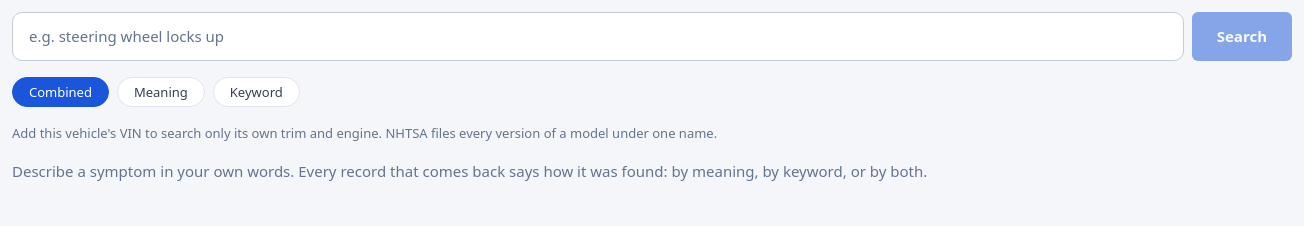
Test: SearchPage › falls back to keyword mode and shows the reason when embeddings are unavailable
Type "steering locks" into the field named "Search phrase".
click(598, 37); type("steering locks")  # box x1=12 y1=12 x2=1184 y2=61
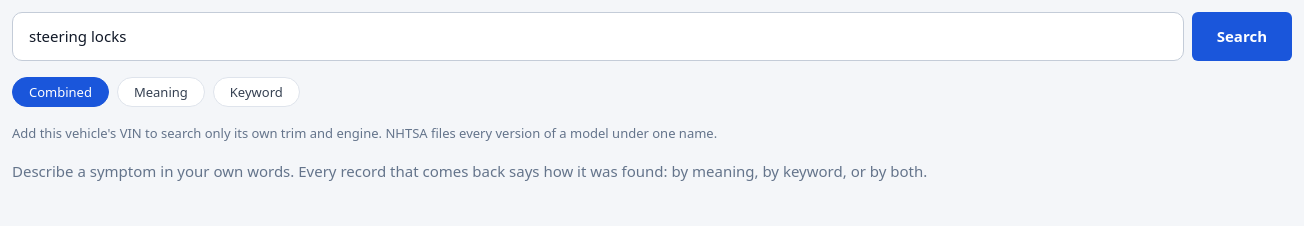
Submit the form with test id "search-box", box x1=12 y1=12 x2=1292 y2=61
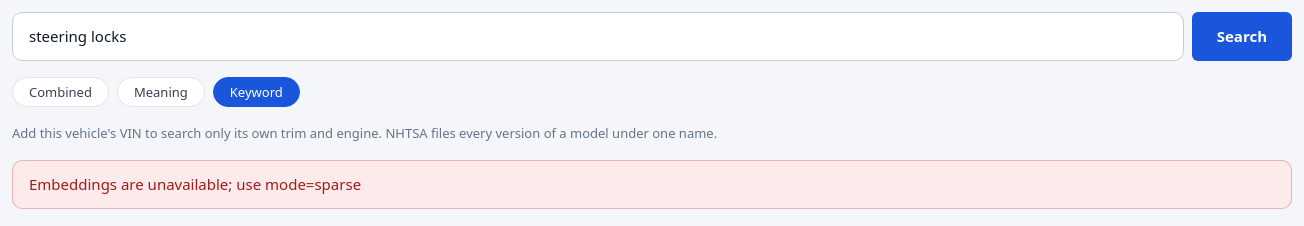
Expected: the text with test id "search-error" shows "Embeddings are unavailable", x1=29 y1=174 x2=361 y2=194
